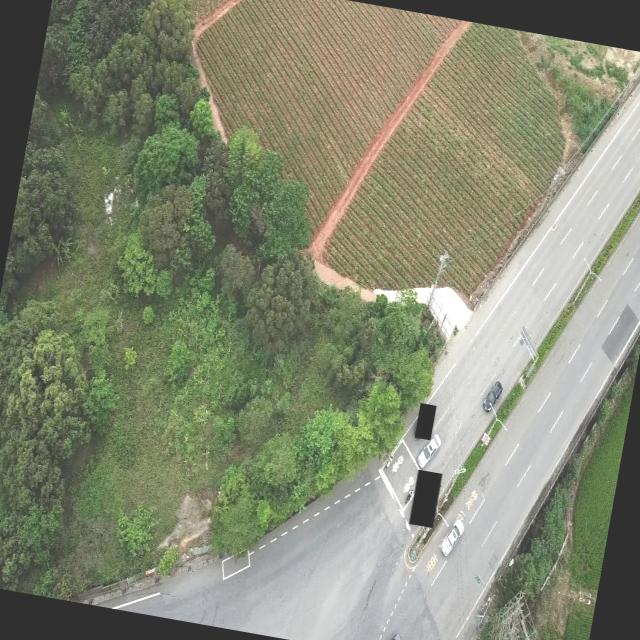car: (438, 516, 466, 558), (415, 431, 442, 472), (481, 378, 503, 413), (378, 630, 404, 640)
